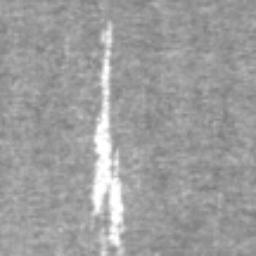White rust: (88, 18, 129, 256)
